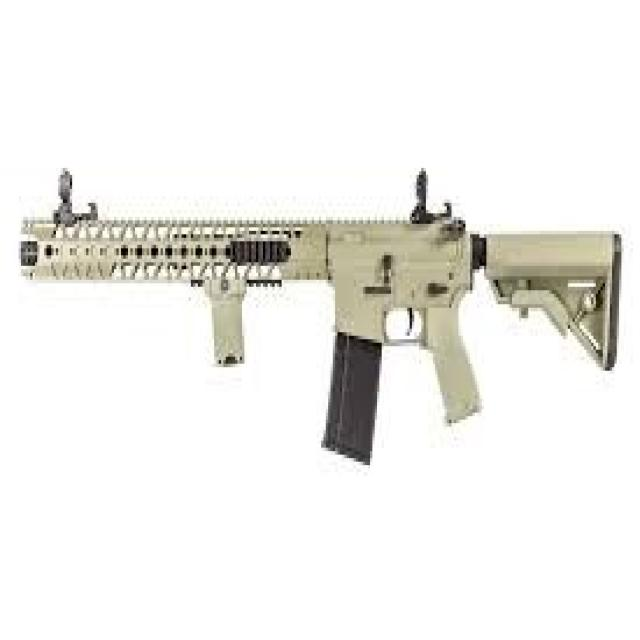rifle: (11, 157, 633, 486)
